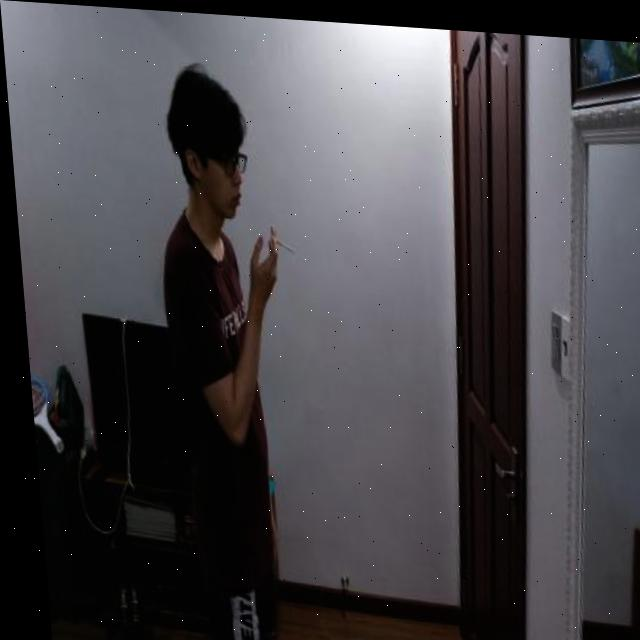cigarette: (272, 235, 291, 251)
